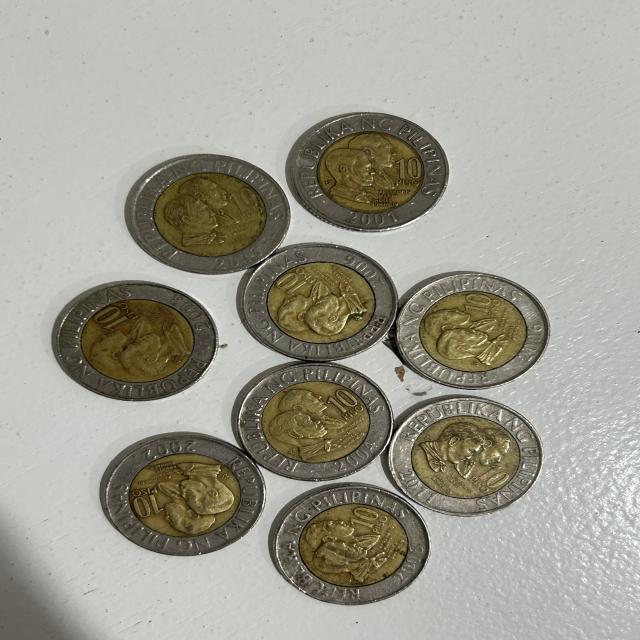10_Old_Front: (462, 459, 513, 495), (323, 387, 370, 422), (456, 288, 502, 322), (273, 264, 316, 298), (129, 481, 166, 519), (228, 182, 264, 220), (88, 304, 138, 331), (390, 156, 424, 188), (344, 505, 381, 529)
